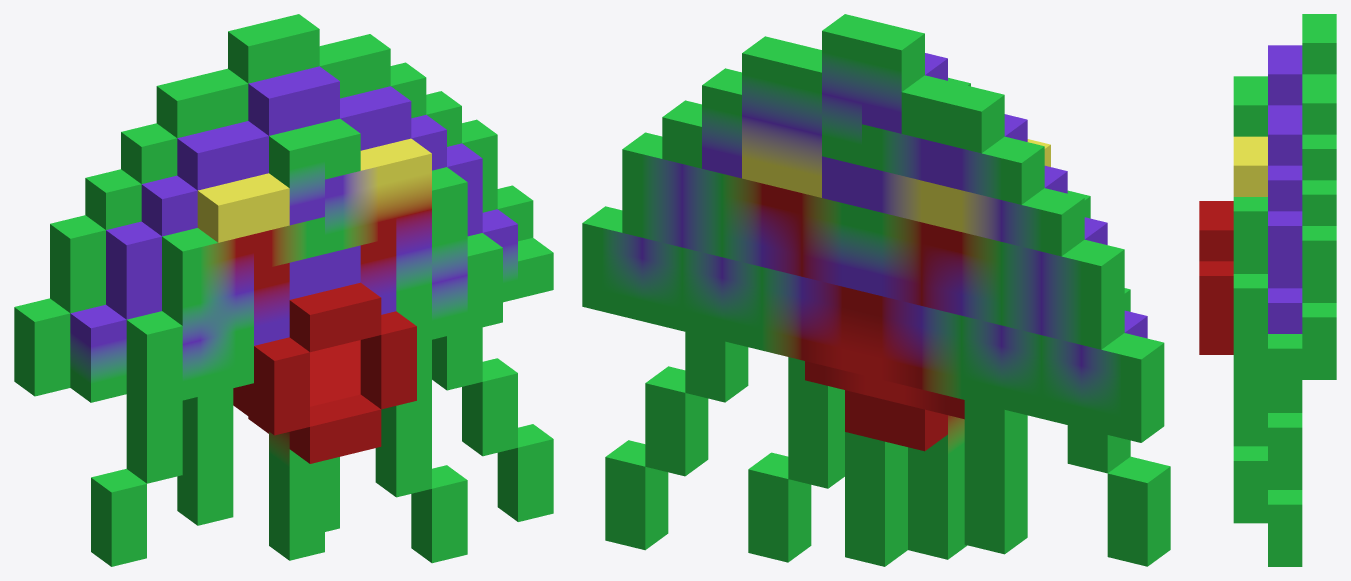
Rendered from Matrix_14.fbx.
The picture shows the model from 3 angles, left to right: view 1: azimuth 30°, elevation 25°; view 2: azimuth 150°, elevation 25°; view 3: azimuth 270°, elevation 25°; orthographic projection. The views are drawn at different scales.
Visible parts, largest first — view 1: Matrix_14; view 2: Matrix_14; view 3: Matrix_14.
Boxes of the visible parts, left/top/right/bottom form: Matrix_14: left=14, top=14, right=553, bottom=566; Matrix_14: left=582, top=14, right=1170, bottom=566; Matrix_14: left=1199, top=14, right=1336, bottom=566.
Size of the model in its own units: 14 by 14 by 4.
